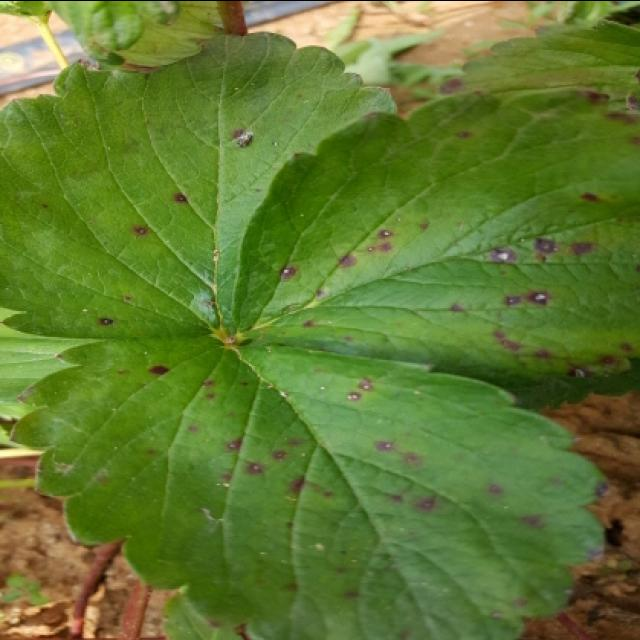Leaf Spot: (9, 337, 608, 638), (0, 23, 399, 340), (231, 87, 638, 388)
